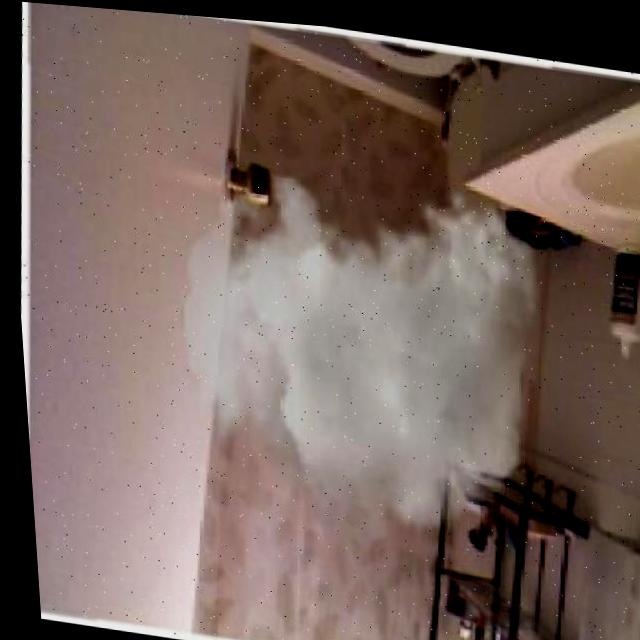no_helmet: (144, 155, 561, 513)
